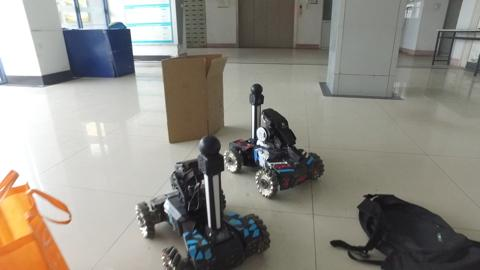box: (162, 49, 227, 141)
chariot: (128, 133, 271, 270), (220, 83, 328, 197)
